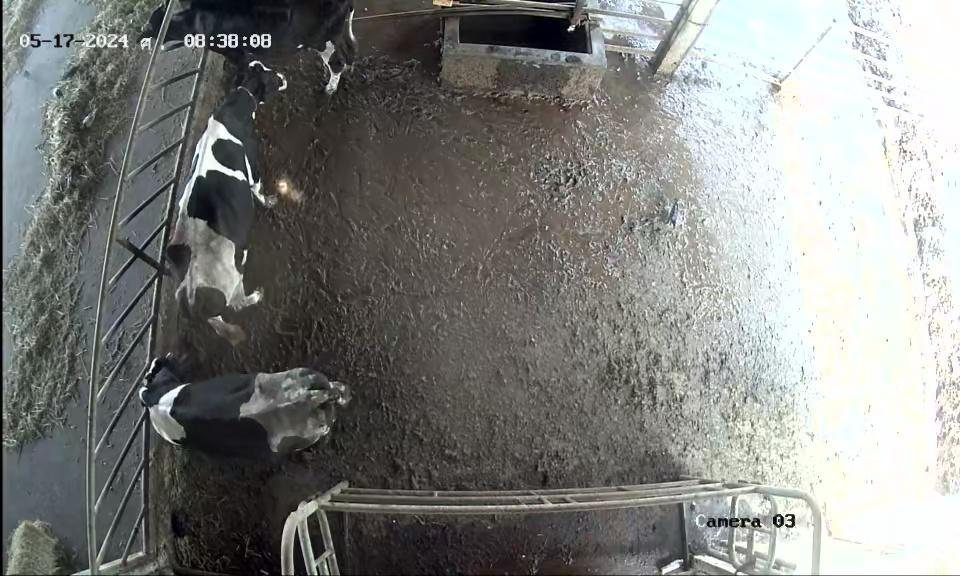eat: (109, 0, 239, 56)
stand: (160, 52, 293, 352), (130, 347, 362, 467)
